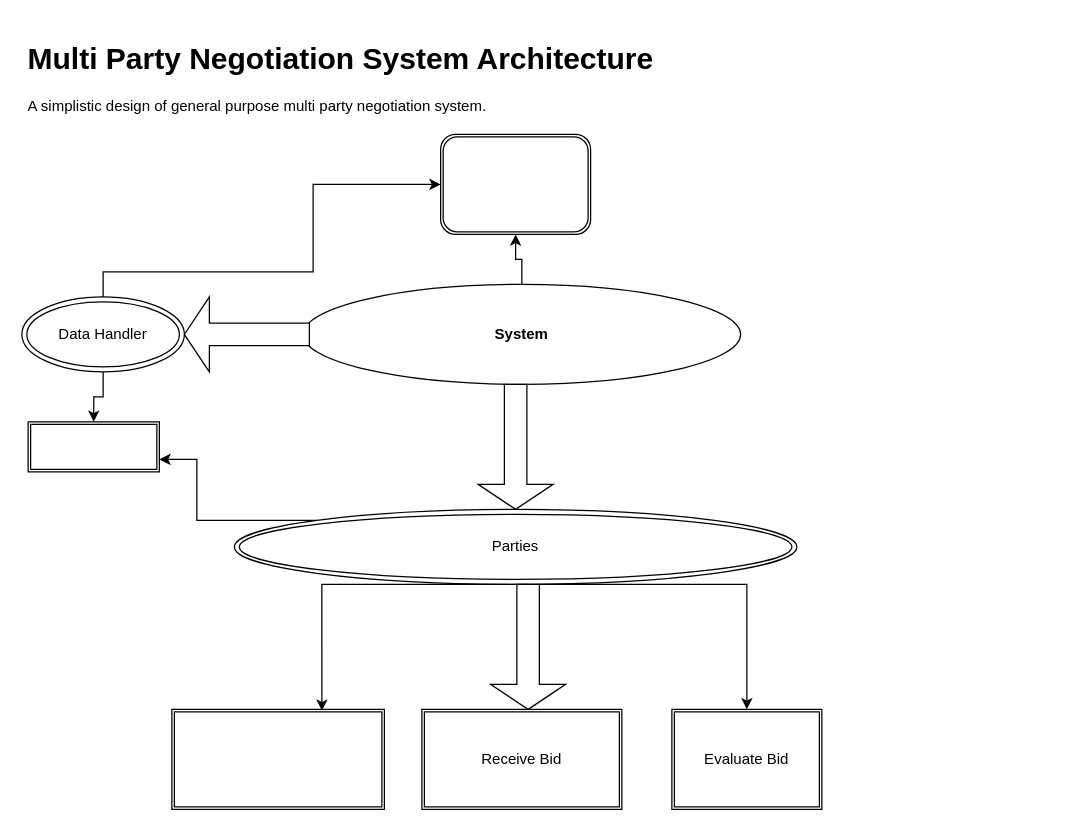
Image size: 1069x831. Some labels were removed from this diagram. The centre of each missing label's shape, as x and y in pixels:
Collect votes: the point at 93,446
Offer Bid: the point at 277,758
State: the point at 515,183
